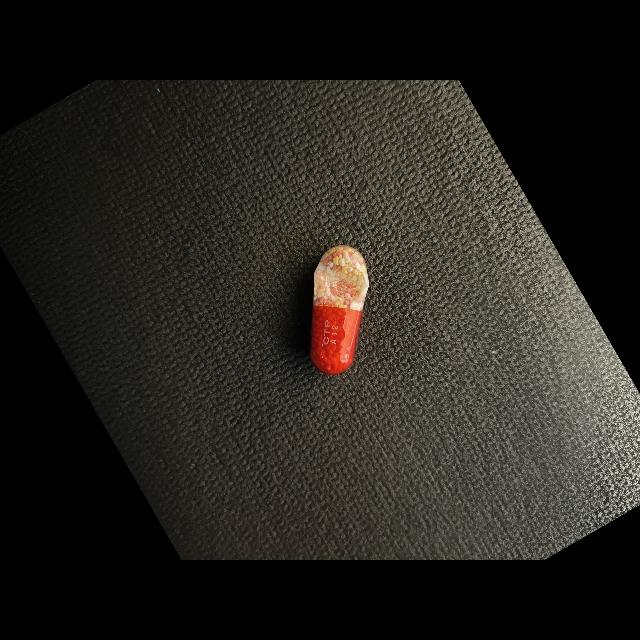Defective Capsule: (310, 245, 369, 374)
